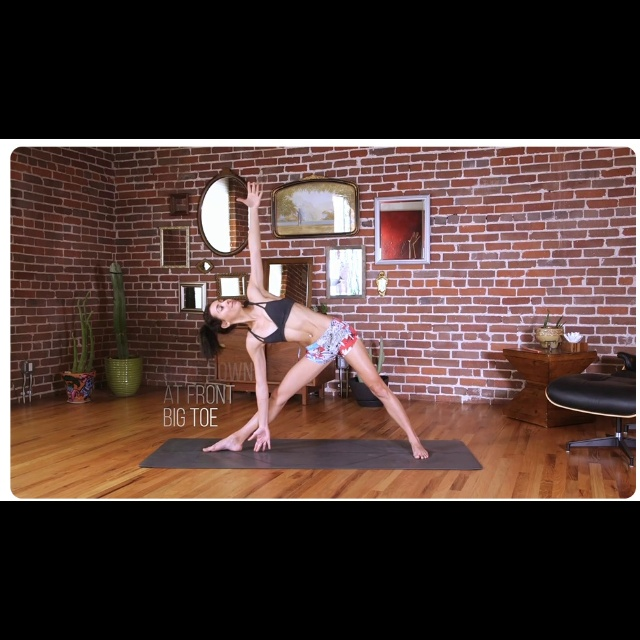Triangle_Pose: (182, 175, 439, 469)
